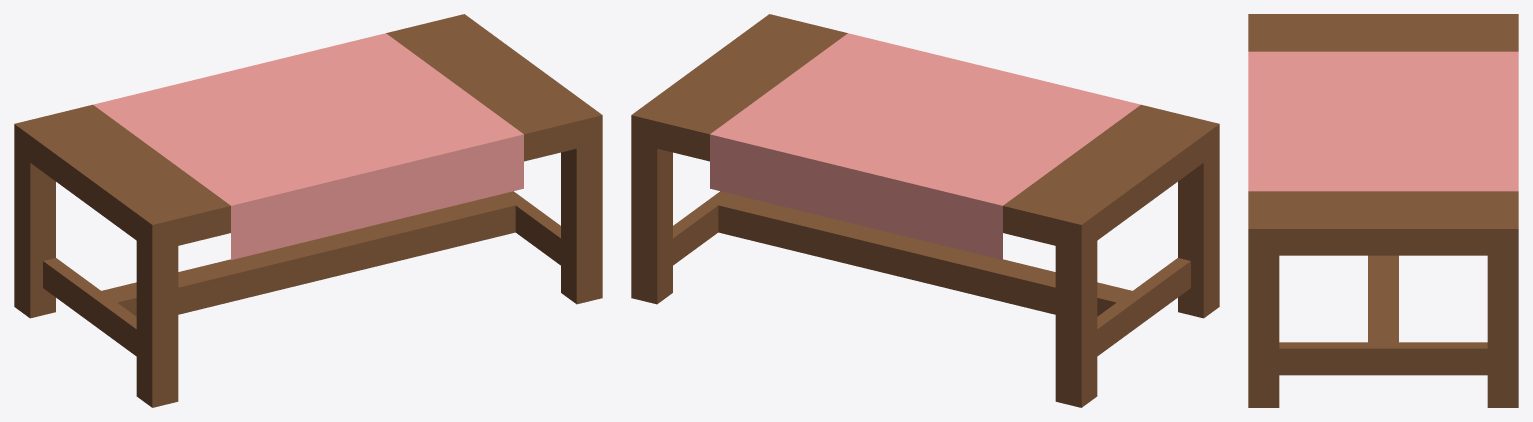
Rendered from m_dining_table_cloth.glb.
3 renders of one model, left to right at view 1: azimuth 30°, elevation 25°; view 2: azimuth 150°, elevation 25°; view 3: azimuth 270°, elevation 25°, orthographic. The views are drawn at different scales.
Parts seen in each view (by area): view 1: tableCloth(Clone); view 2: tableCloth(Clone); view 3: tableCloth(Clone).
Part boxes in pixels (box(x1,y1,x2,y2)): tableCloth(Clone): box(14, 14, 602, 407); tableCloth(Clone): box(631, 14, 1219, 407); tableCloth(Clone): box(1248, 14, 1518, 407).
Size of the model in its own units: 2.01 by 0.7799 by 1.07.
